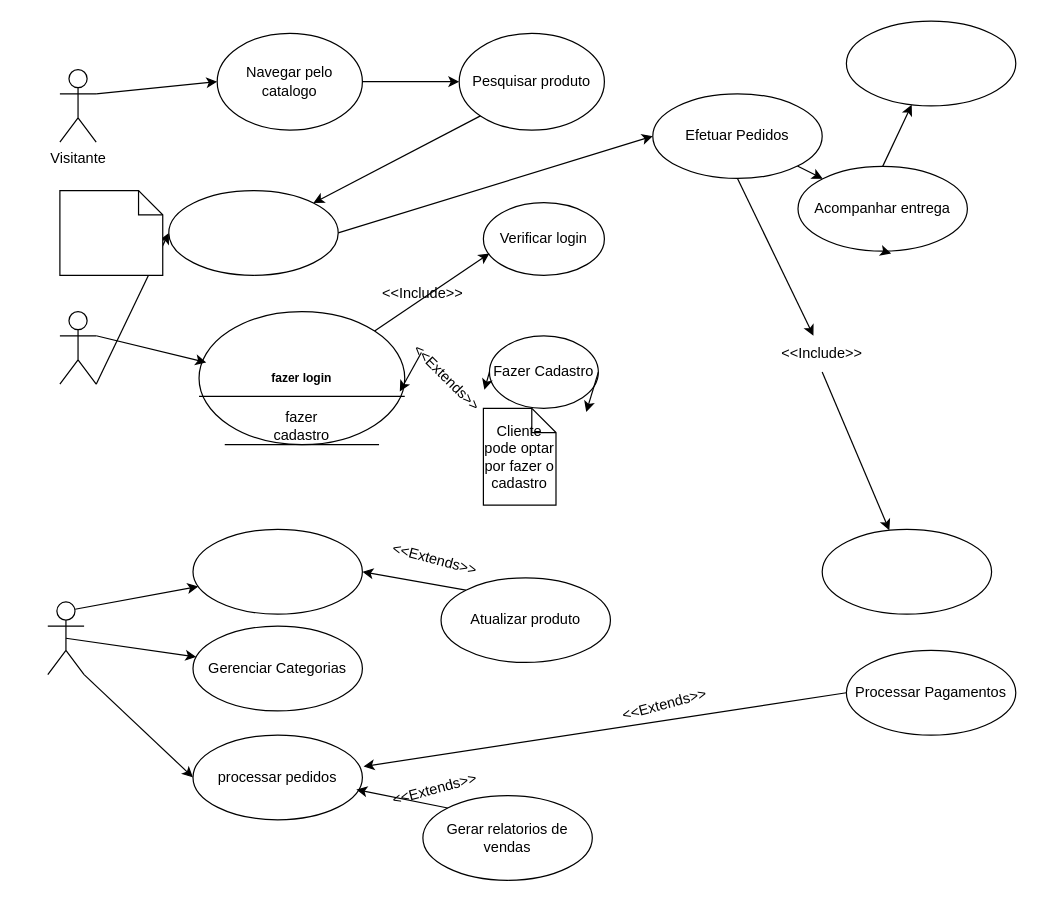
This 1037x901 diagram has some shape labels left out. The shapes that lost their labels are listed below. From the top down, each one's centre as x and y in pixels, then its label:
At pixel 930 63: "Avaliar produtos".
At pixel 111 232: "Cliente pode ultilizar todos os recusrsos do visitante".
At pixel 253 232: "Adicionar Produtos ao carrinho".
At pixel 77 347: "Cliente".
At pixel 277 571: "Cadastrar Produtos".
At pixel 906 571: "Sistem,De pagamentos".
At pixel 65 638: "Administrador".
